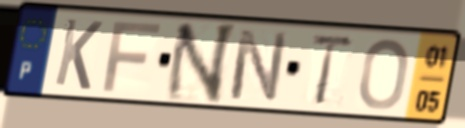F: (100, 19, 164, 95)
K: (51, 15, 106, 93)
N: (161, 21, 240, 105), (226, 27, 291, 104)
O: (356, 36, 412, 112)
T: (307, 32, 358, 108)
